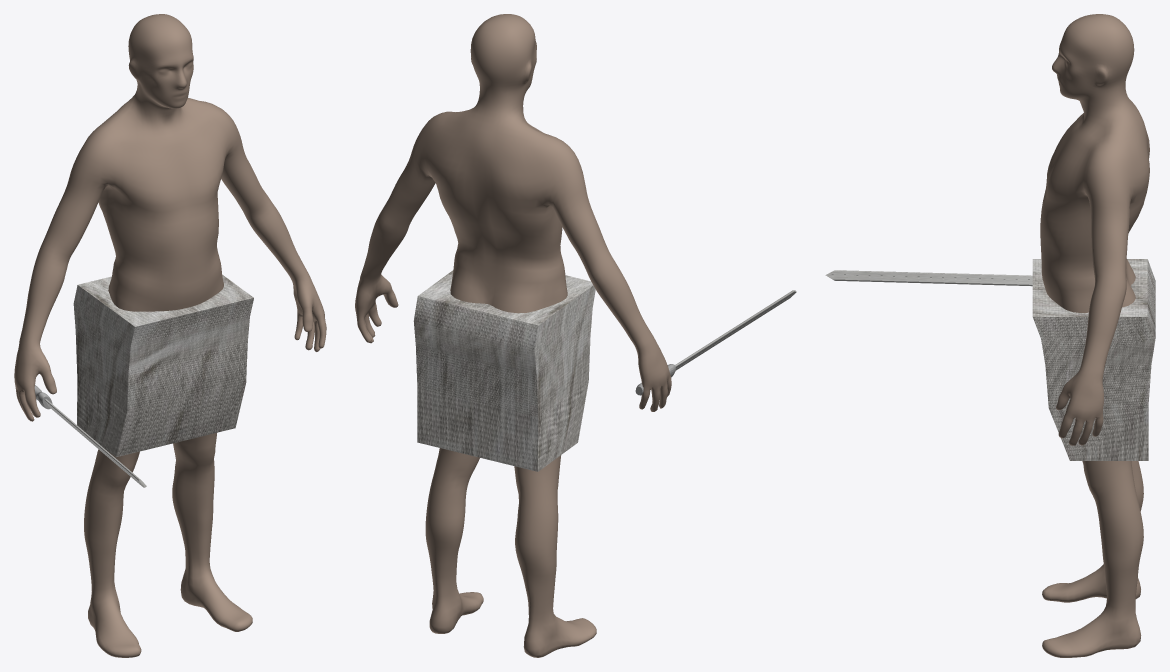
File: Soldier Level_1.fbx
3 views of the same model, side by side, from view 1: azimuth 30°, elevation 25°; view 2: azimuth 150°, elevation 25°; view 3: azimuth 270°, elevation 25° (orthographic).
Parts seen in each view (by area): view 1: humanBody, pCube2, pCube1; view 2: humanBody, pCube2, pCube1; view 3: humanBody, pCube2, pCube1.
Boxes of the visible parts, x1,y1,x2,y2 form: humanBody: (14, 14, 326, 657); pCube2: (73, 275, 253, 457); pCube1: (44, 399, 146, 487); humanBody: (355, 14, 671, 657); pCube2: (413, 270, 595, 471); pCube1: (675, 290, 796, 370); humanBody: (1040, 14, 1149, 657); pCube2: (1032, 259, 1155, 460); pCube1: (825, 270, 1032, 286).
Bounding box in the file's own units: 18.92 × 35.95 × 17.67.
